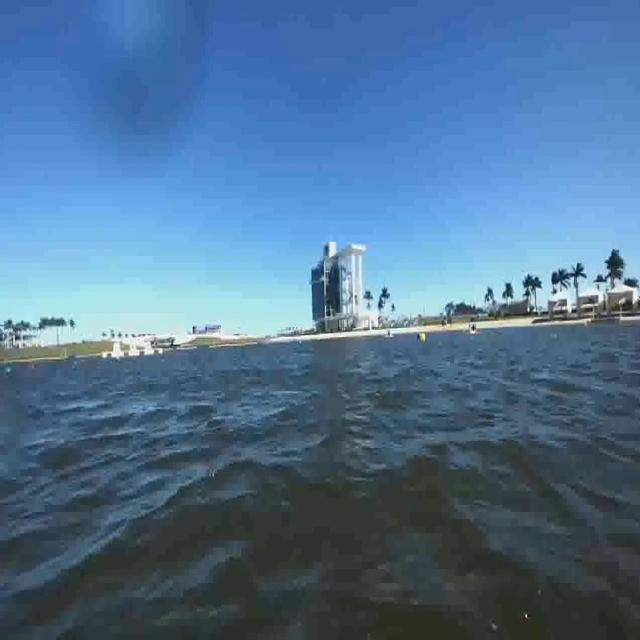yellow-buoy: (418, 330, 426, 343)
